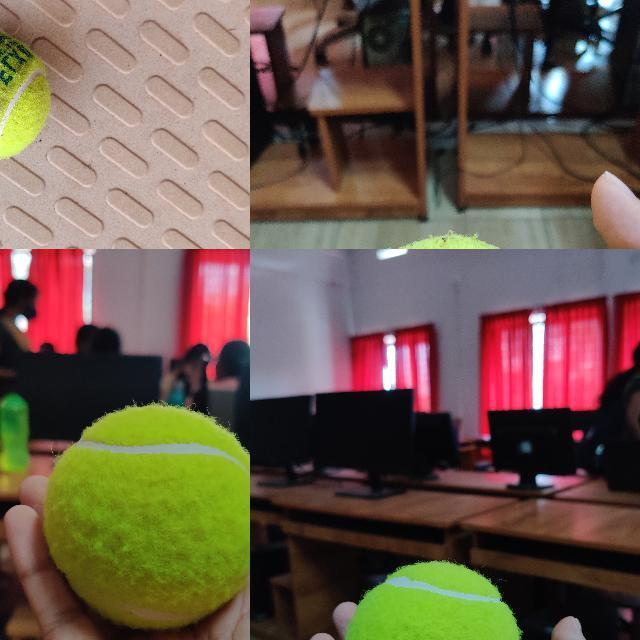Tennis Ball: (44, 404, 250, 630), (342, 562, 522, 639), (1, 30, 51, 160)
